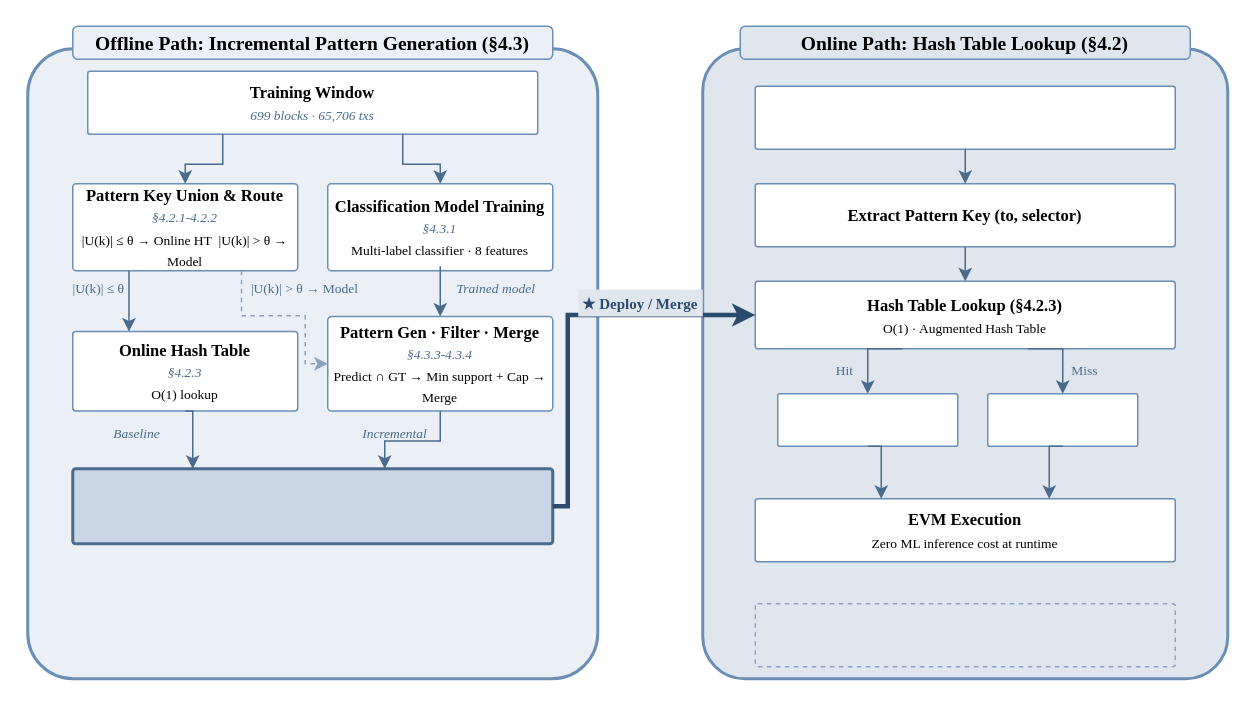
The diagram is 1254 pixels wide and 707 high, and some of its shapes have lost their labels. The shapes that lost their labels are listed below. From the top down, each one's box as (x1, y1, x2, y2) in pixels, then its label:
(754, 85, 1175, 149): Incoming Transaction
(776, 392, 958, 446): Storage Slot Set
(986, 392, 1138, 446): Empty Set
(70, 466, 554, 544): Augmented Hash Table Same key-value format · O(1) preserved
(754, 602, 1175, 667): Key Properties • O(1) unchanged after merge • Continuous periodic updates
